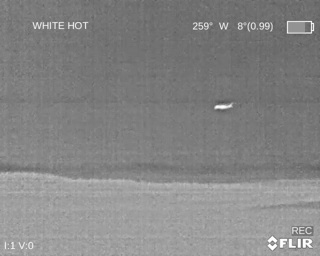AIRPLANE: (213, 102, 233, 111)
